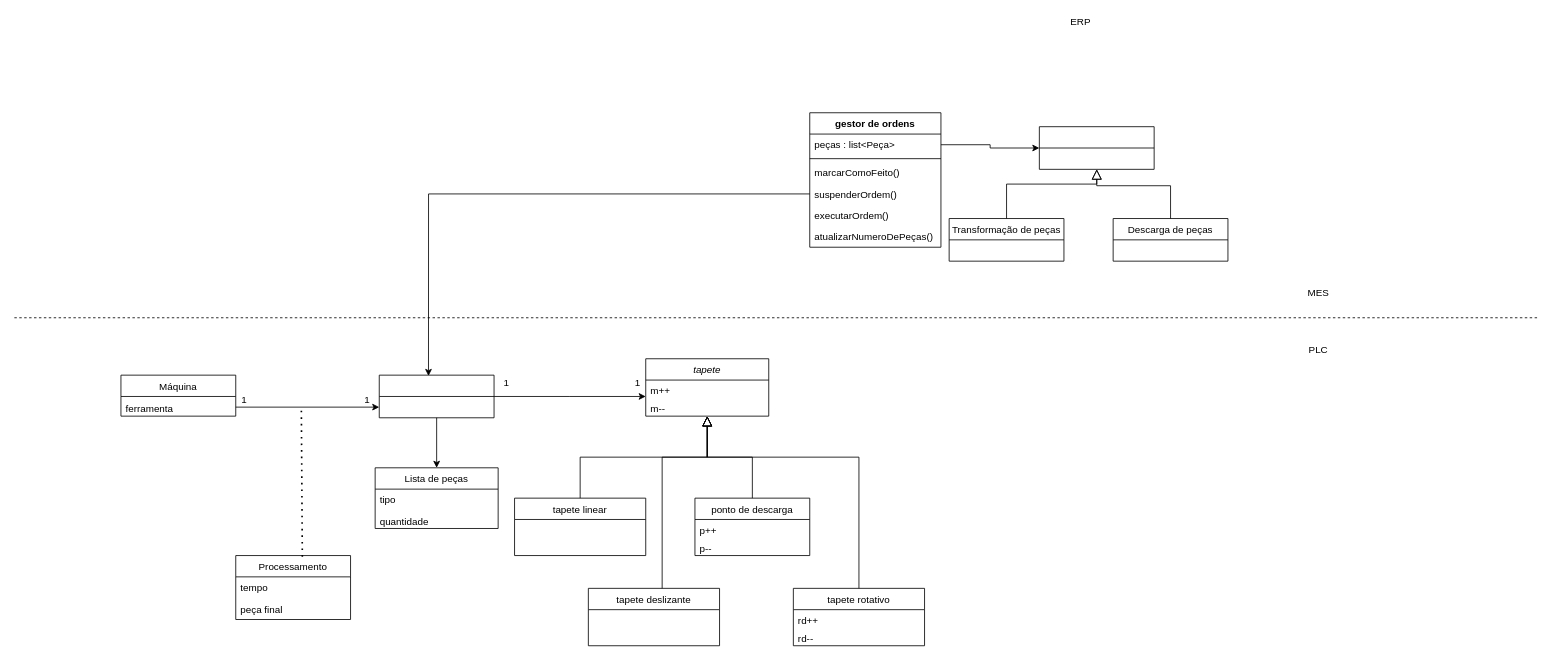
Some shapes in this 1555 by 662 pixel diagram are drawn without their labels. Each missing label, with the centre of its shape:
lista de ordens: point 1096,147
Peça: point 436,396
